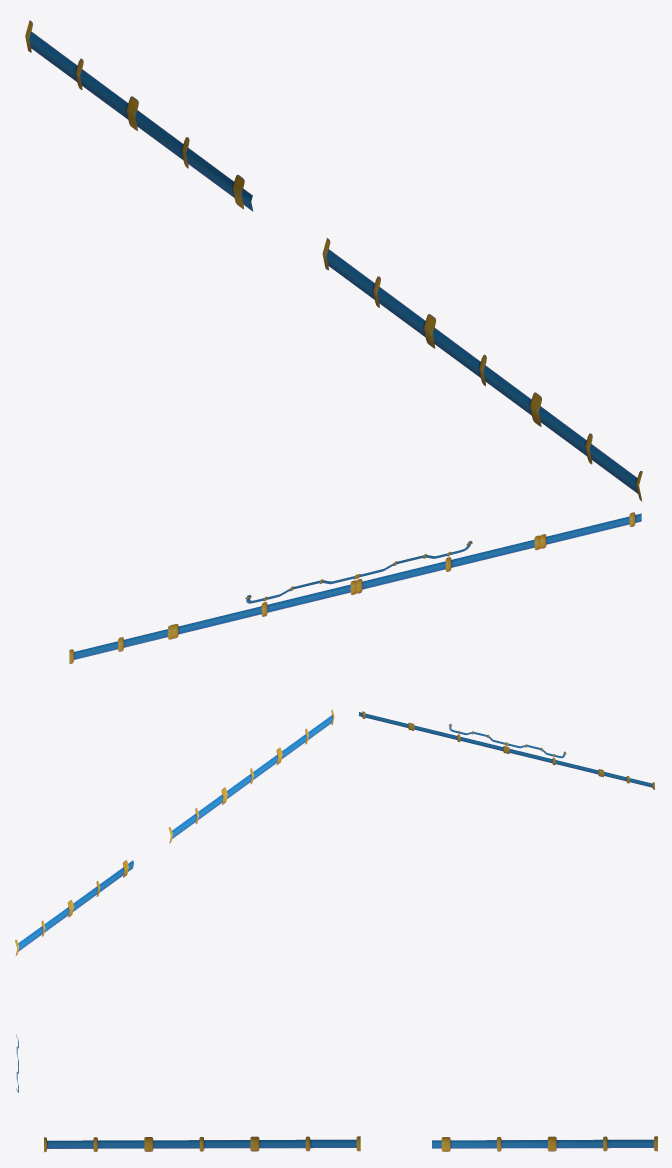
File: Pipes_Level2.fbx
3 renders of one model, top to bottom at view 1: azimuth 30°, elevation 25°; view 2: azimuth 150°, elevation 25°; view 3: azimuth 270°, elevation 25°, orthographic. The views are drawn at different scales.
Parts seen in each view (by area): view 1: Side_Pipes_2D_Blue (×2), Top_Pipes_2D_Blue; view 2: Side_Pipes_2D_Blue (×2), Top_Pipes_2D_Blue; view 3: Side_Pipes_2D_Blue (×2).
Part boxes in pixels (x1,y1,x2,y2): Side_Pipes_2D_Blue (×2): (25,20,642,501); Top_Pipes_2D_Blue: (69,512,641,663); Side_Pipes_2D_Blue (×2): (15,709,334,955); Top_Pipes_2D_Blue: (359,711,654,789); Side_Pipes_2D_Blue (×2): (44,1136,657,1152).
Size of the model in its own units: 240 by 15.64 by 445.
Materials: 1 (1 with a texture image).
